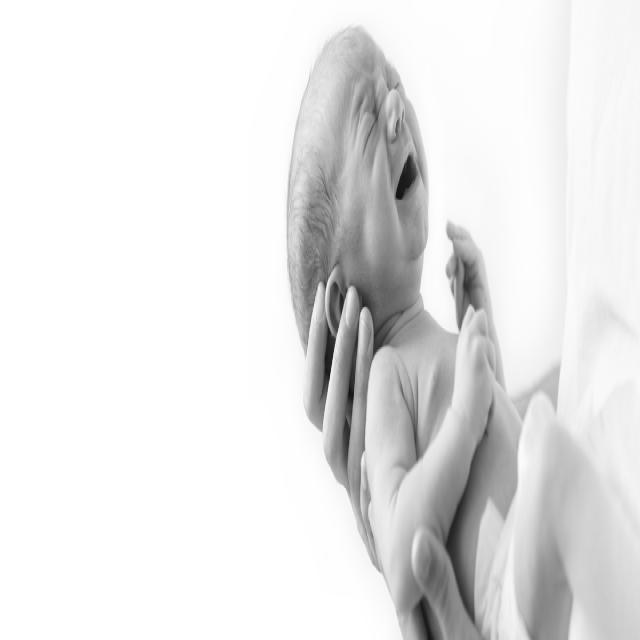child: (288, 28, 631, 640)
